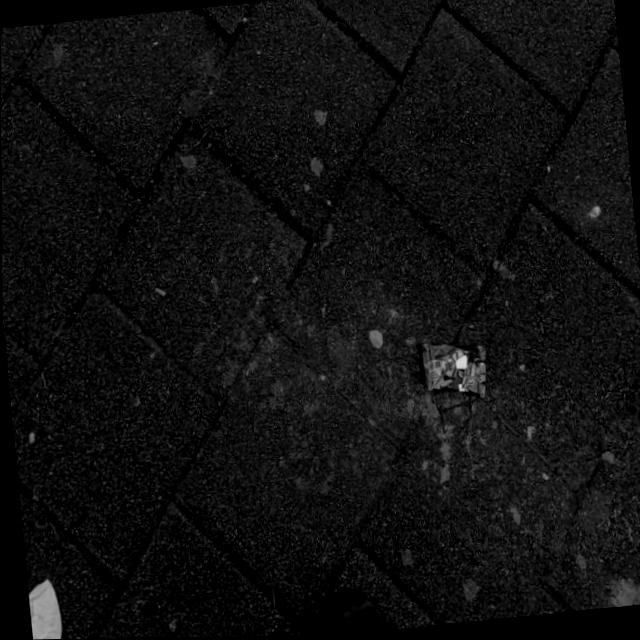Paper: (24, 574, 63, 640)
Plastic: (419, 336, 488, 406)
